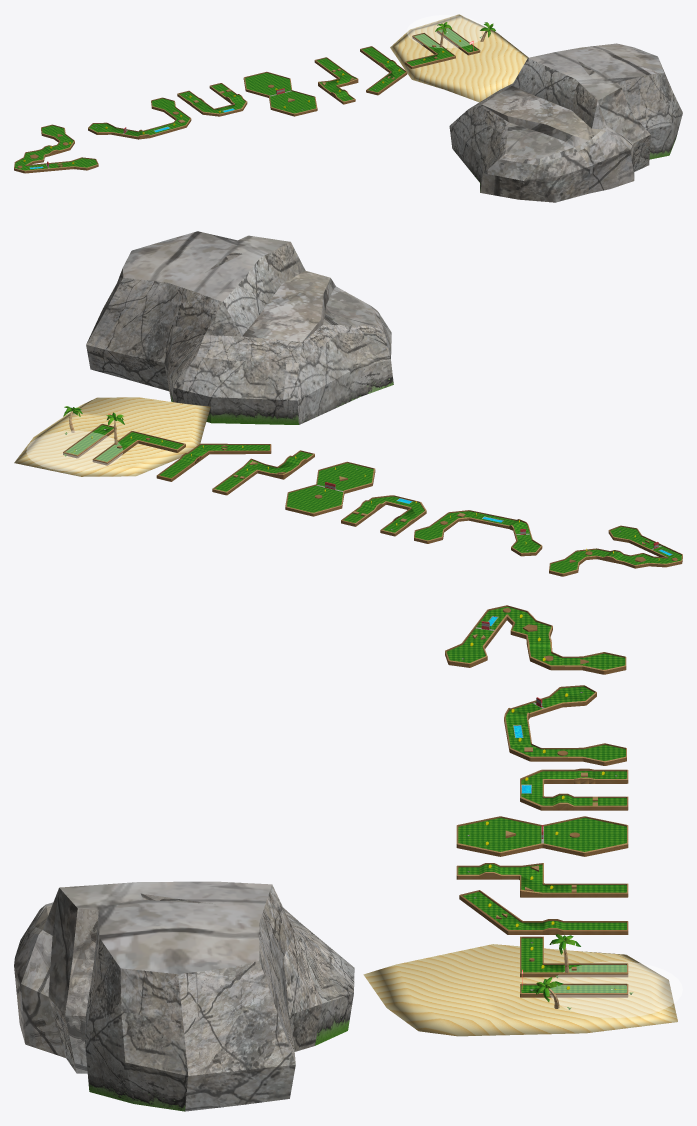
3 renders of one model, top to bottom at view 1: azimuth 30°, elevation 25°; view 2: azimuth 150°, elevation 25°; view 3: azimuth 270°, elevation 25°, orthographic. The views are drawn at different scales.
Visible parts, largest first — view 1: mountain, island, Pad, lvl5-grass, lvl8-grass, lvl8-wall, lvl7-grass, lvl7-wall, lvl6-grass, lvl4-grass, lvl3-grass, lvl6-wall (+5 smaller); view 2: mountain, island, Pad, lvl5-grass, lvl8-grass, lvl8-wall, lvl7-grass, lvl6-grass, lvl7-wall, lvl4-grass, lvl3-grass, lvl6-wall (+5 smaller); view 3: mountain, island, Pad, lvl5-grass, lvl8-grass, lvl7-grass, lvl8-wall, lvl6-wall, lvl6-grass, lvl7-wall, lvl4-wall, lvl4-grass (+6 smaller).
Part boxes in pixels (x1=…): mountain: x1=435, y1=22, x2=682, y2=202; island: x1=390, y1=14, x2=528, y2=102; Pad: x1=407, y1=15, x2=484, y2=47; lvl5-grass: x1=245, y1=73, x2=315, y2=113; lvl8-grass: x1=15, y1=125, x2=97, y2=170; lvl8-wall: x1=14, y1=124, x2=98, y2=173; lvl7-grass: x1=89, y1=98, x2=189, y2=136; lvl7-wall: x1=88, y1=97, x2=191, y2=139; lvl6-grass: x1=179, y1=84, x2=245, y2=113; lvl4-grass: x1=317, y1=58, x2=355, y2=101; lvl3-grass: x1=362, y1=47, x2=405, y2=92; lvl6-wall: x1=177, y1=83, x2=247, y2=116; mountain: x1=63, y1=231, x2=393, y2=456; island: x1=14, y1=397, x2=210, y2=476; Pad: x1=26, y1=431, x2=122, y2=471; lvl5-grass: x1=287, y1=463, x2=373, y2=512; lvl8-grass: x1=550, y1=526, x2=681, y2=573; lvl8-wall: x1=549, y1=525, x2=682, y2=576; lvl7-grass: x1=415, y1=511, x2=540, y2=552; lvl6-grass: x1=343, y1=496, x2=424, y2=532; lvl7-wall: x1=414, y1=510, x2=542, y2=556; lvl4-grass: x1=215, y1=451, x2=312, y2=491; lvl3-grass: x1=159, y1=445, x2=269, y2=477; lvl6-wall: x1=341, y1=495, x2=426, y2=536; mountain: x1=14, y1=881, x2=632, y2=1111; island: x1=363, y1=944, x2=677, y2=1036; Pad: x1=549, y1=961, x2=682, y2=1017; lvl5-grass: x1=458, y1=818, x2=626, y2=851; lvl8-grass: x1=447, y1=607, x2=625, y2=669; lvl7-grass: x1=506, y1=686, x2=625, y2=760; lvl8-wall: x1=445, y1=605, x2=626, y2=674; lvl6-wall: x1=520, y1=768, x2=628, y2=810; lvl6-grass: x1=521, y1=771, x2=626, y2=805; lvl7-wall: x1=504, y1=685, x2=626, y2=765; lvl4-wall: x1=456, y1=863, x2=628, y2=897; lvl4-grass: x1=458, y1=864, x2=626, y2=892.
Size of the model in its own units: 105 by 15.46 by 63.47.
17 materials, 13 textured.
